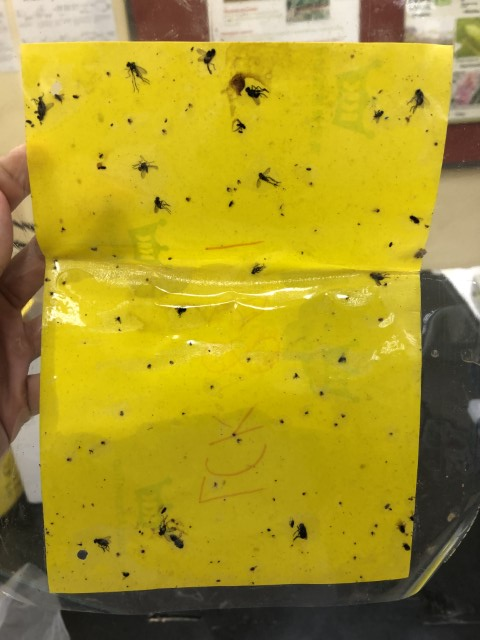Other: (123, 60, 153, 95), (29, 91, 55, 125), (251, 165, 284, 191), (194, 45, 221, 76), (405, 87, 432, 117), (242, 82, 272, 108), (131, 154, 159, 178), (366, 269, 393, 289), (89, 534, 114, 554), (150, 195, 174, 215), (153, 514, 172, 538), (292, 521, 310, 543), (249, 261, 267, 278), (168, 532, 185, 549), (370, 107, 387, 123), (408, 213, 426, 228), (232, 117, 248, 133), (336, 350, 350, 366), (118, 569, 135, 581), (174, 305, 188, 319), (396, 519, 407, 536), (52, 91, 65, 105), (401, 541, 412, 554), (95, 163, 107, 172), (227, 198, 236, 208), (292, 370, 301, 380), (113, 315, 122, 324), (409, 512, 418, 521), (388, 240, 394, 248)
